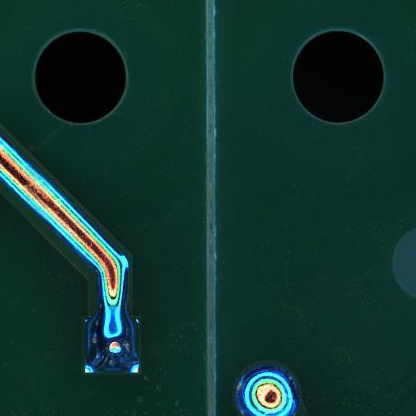spot: (233, 363, 302, 415), (83, 315, 139, 376)
